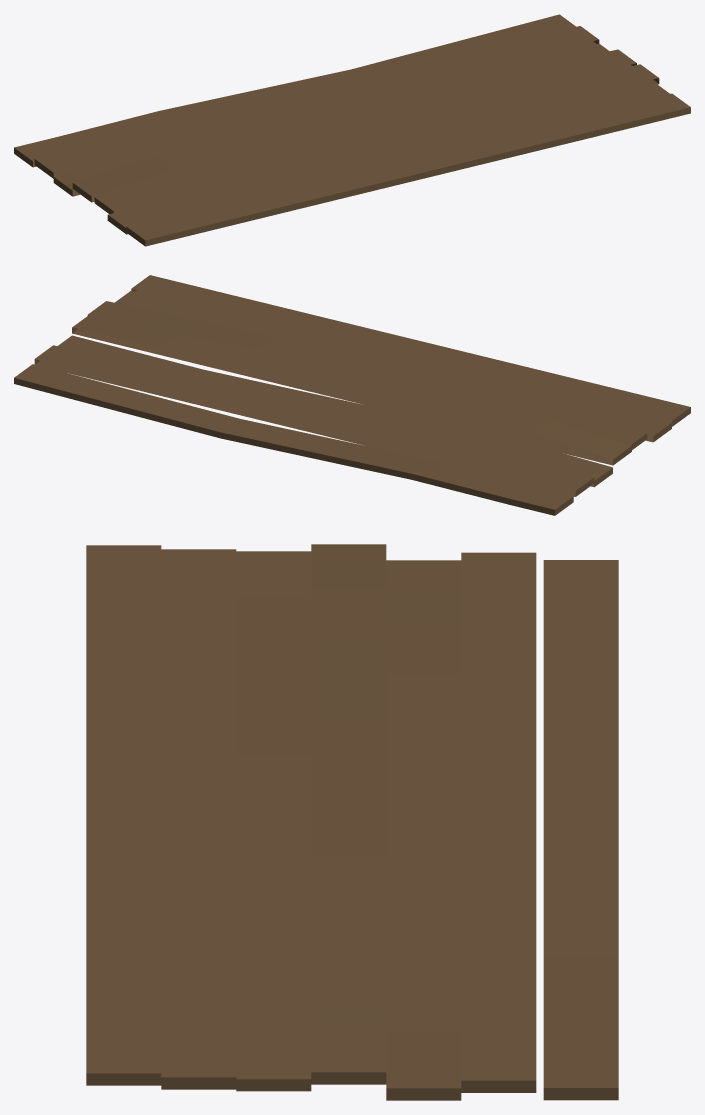
File: SM_plank_board_02.fbx
3 views of the same model, one above another, from view 1: azimuth 30°, elevation 25°; view 2: azimuth 150°, elevation 25°; view 3: azimuth 270°, elevation 25° (orthographic). The views are drawn at different scales.
Visible parts, largest first — view 1: plank_board_02; view 2: plank_board_02; view 3: plank_board_02.
Boxes of the visible parts, x1,y1,x2,y2 form: plank_board_02: [14, 14, 690, 246]; plank_board_02: [14, 275, 690, 515]; plank_board_02: [86, 544, 618, 1100].
Size of the model in its own units: 480 by 20.76 by 202.
